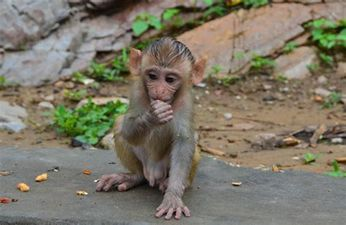monkey: (73, 36, 216, 205)
